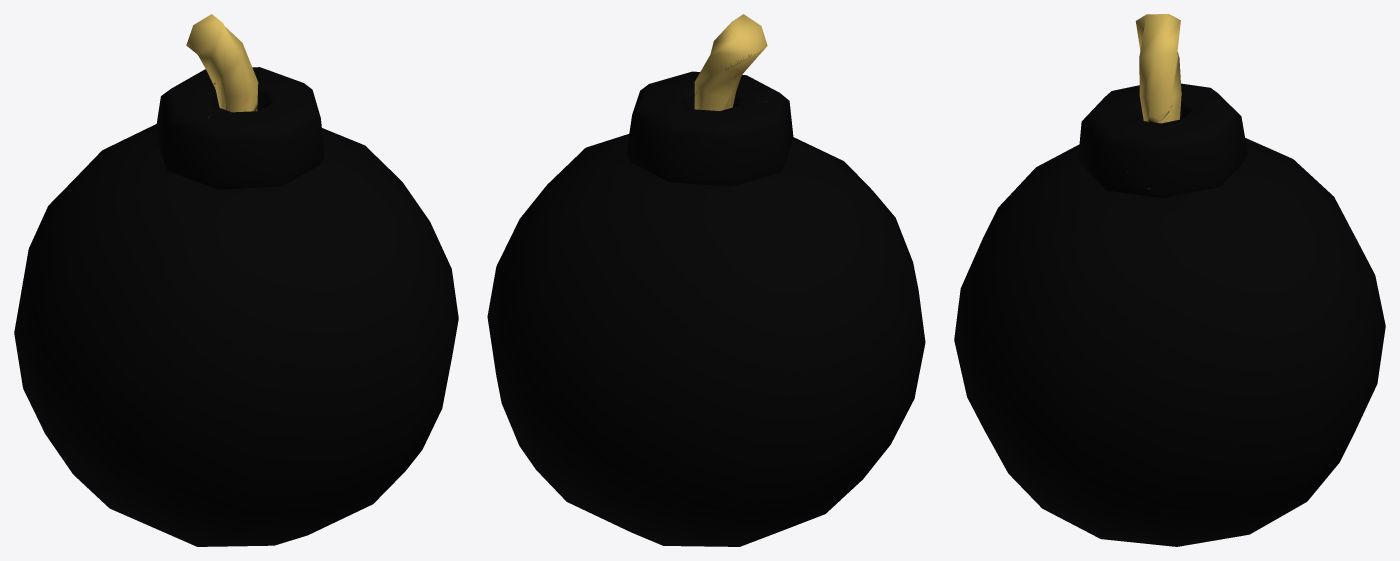
File: bomb.glb
3 renders of one model, left to right at view 1: azimuth 30°, elevation 25°; view 2: azimuth 150°, elevation 25°; view 3: azimuth 270°, elevation 25°, orthographic. The views are drawn at different scales.
Parts seen in each view (by area): view 1: bomba; view 2: bomba; view 3: bomba.
Part boxes in pixels (<box>): bomba: <box>14,14,458,546</box>; bomba: <box>487,14,925,546</box>; bomba: <box>954,14,1385,546</box>.
Size of the model in its own units: 40.02 by 50.71 by 40.
1 material, 1 textured.
